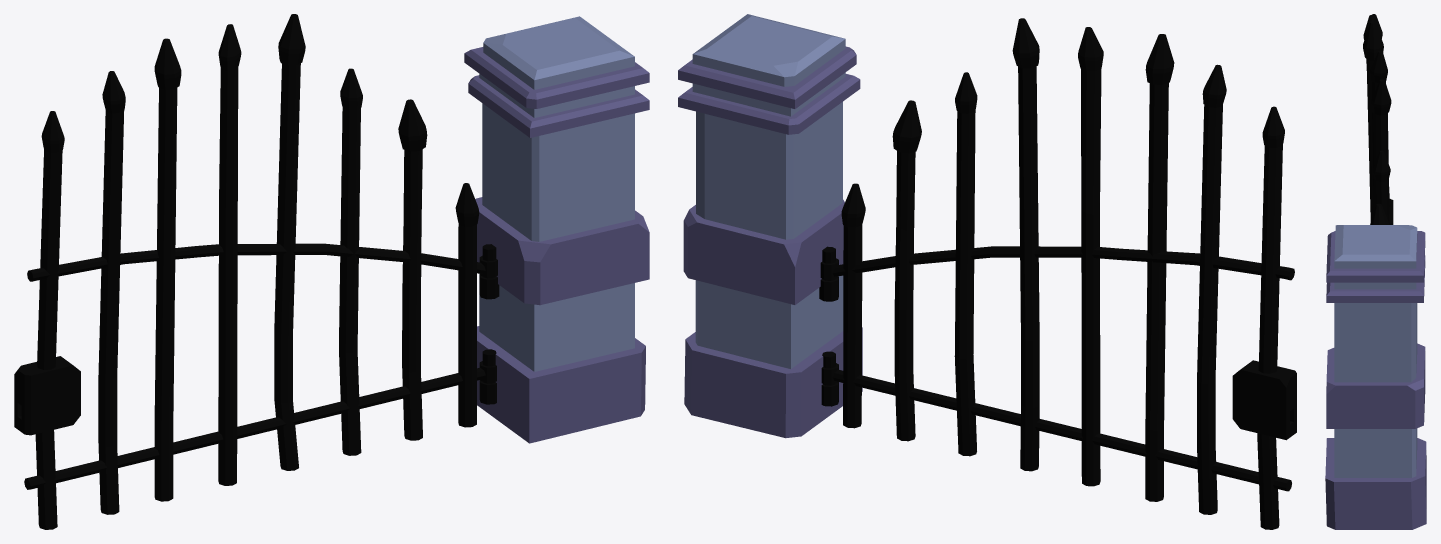
File: Gate Metal 02.fbx
3 renders of one model, left to right at view 1: azimuth 30°, elevation 25°; view 2: azimuth 150°, elevation 25°; view 3: azimuth 270°, elevation 25°, orthographic. The views are drawn at different scales.
Visible parts, largest first — view 1: Gate 02 MovingPart, Gate 02; view 2: Gate 02 MovingPart, Gate 02; view 3: Gate 02, Gate 02 MovingPart.
Boxes of the visible parts, <box> form: Gate 02 MovingPart: <box>14,14,497,529</box>; Gate 02: <box>464,16,649,443</box>; Gate 02 MovingPart: <box>820,18,1296,529</box>; Gate 02: <box>678,14,862,438</box>; Gate 02: <box>1325,225,1426,529</box>; Gate 02 MovingPart: <box>1363,14,1393,224</box>.
Size of the model in its own units: 384 by 286 by 76.44.
